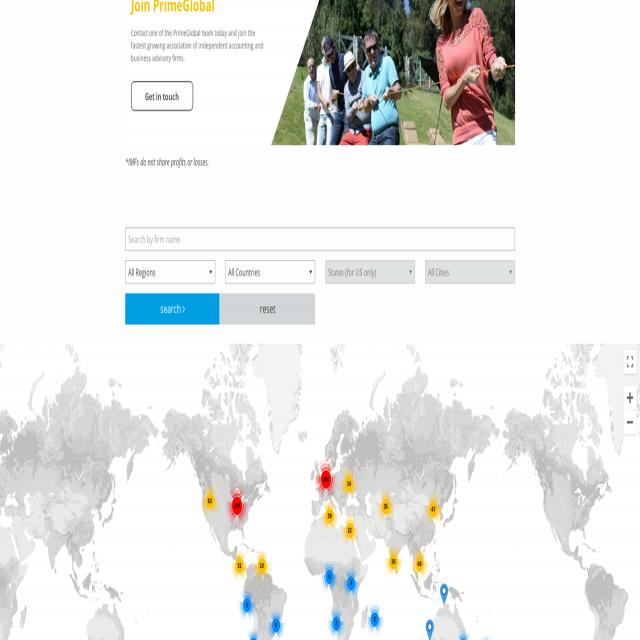button: (125, 293, 220, 324), (220, 293, 315, 324), (132, 81, 193, 111), (623, 351, 636, 375), (624, 410, 636, 434), (624, 386, 636, 409), (425, 618, 434, 640), (440, 584, 448, 605)
field: (125, 227, 516, 251), (125, 260, 215, 284), (225, 260, 315, 284), (325, 260, 415, 284), (425, 260, 515, 284)
